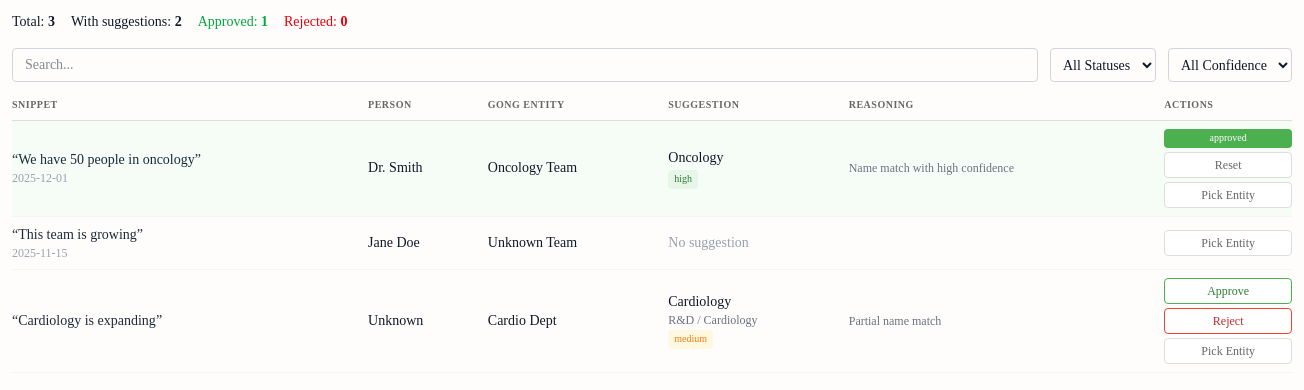
Test: MatchReviewTable › filters by status
Select "Approved" in the 1st dropdown showing "All Statuses" at x=1103, y=65, box top-left (1050, 48), bottom-right (1156, 82)
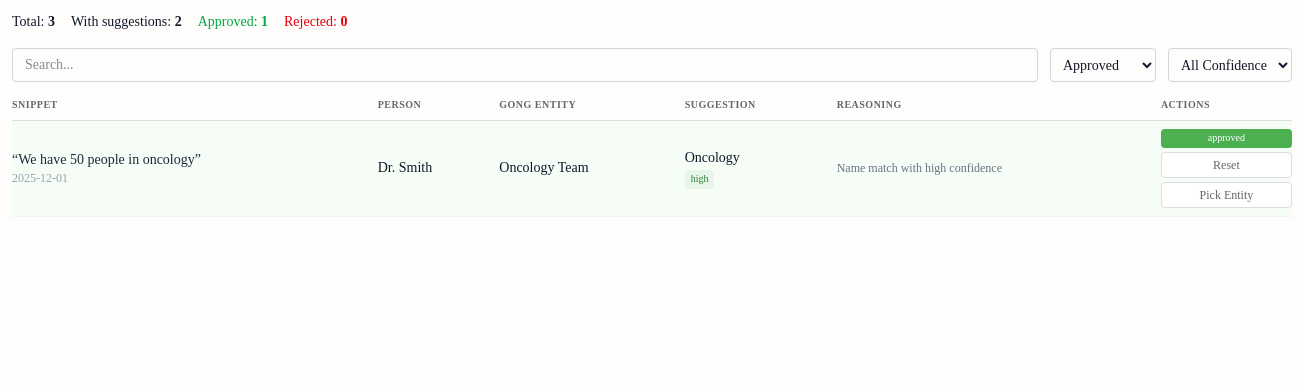
Expected: the text "Oncology Team" is shown, top-left (499, 160), bottom-right (589, 175)
Expected: the text "Unknown Team" is gone
